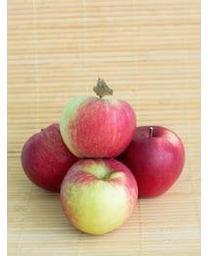apple: (60, 77, 137, 158), (60, 159, 138, 235), (116, 126, 185, 198), (22, 123, 80, 193)
